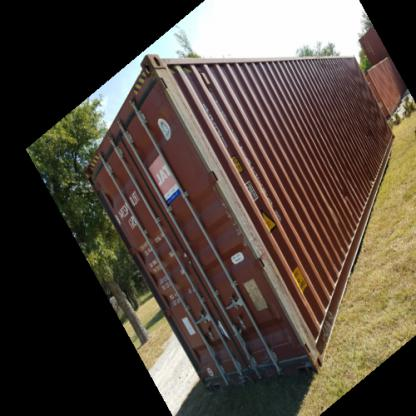Damage: (210, 168, 248, 238), (334, 173, 354, 206), (355, 117, 375, 137)
